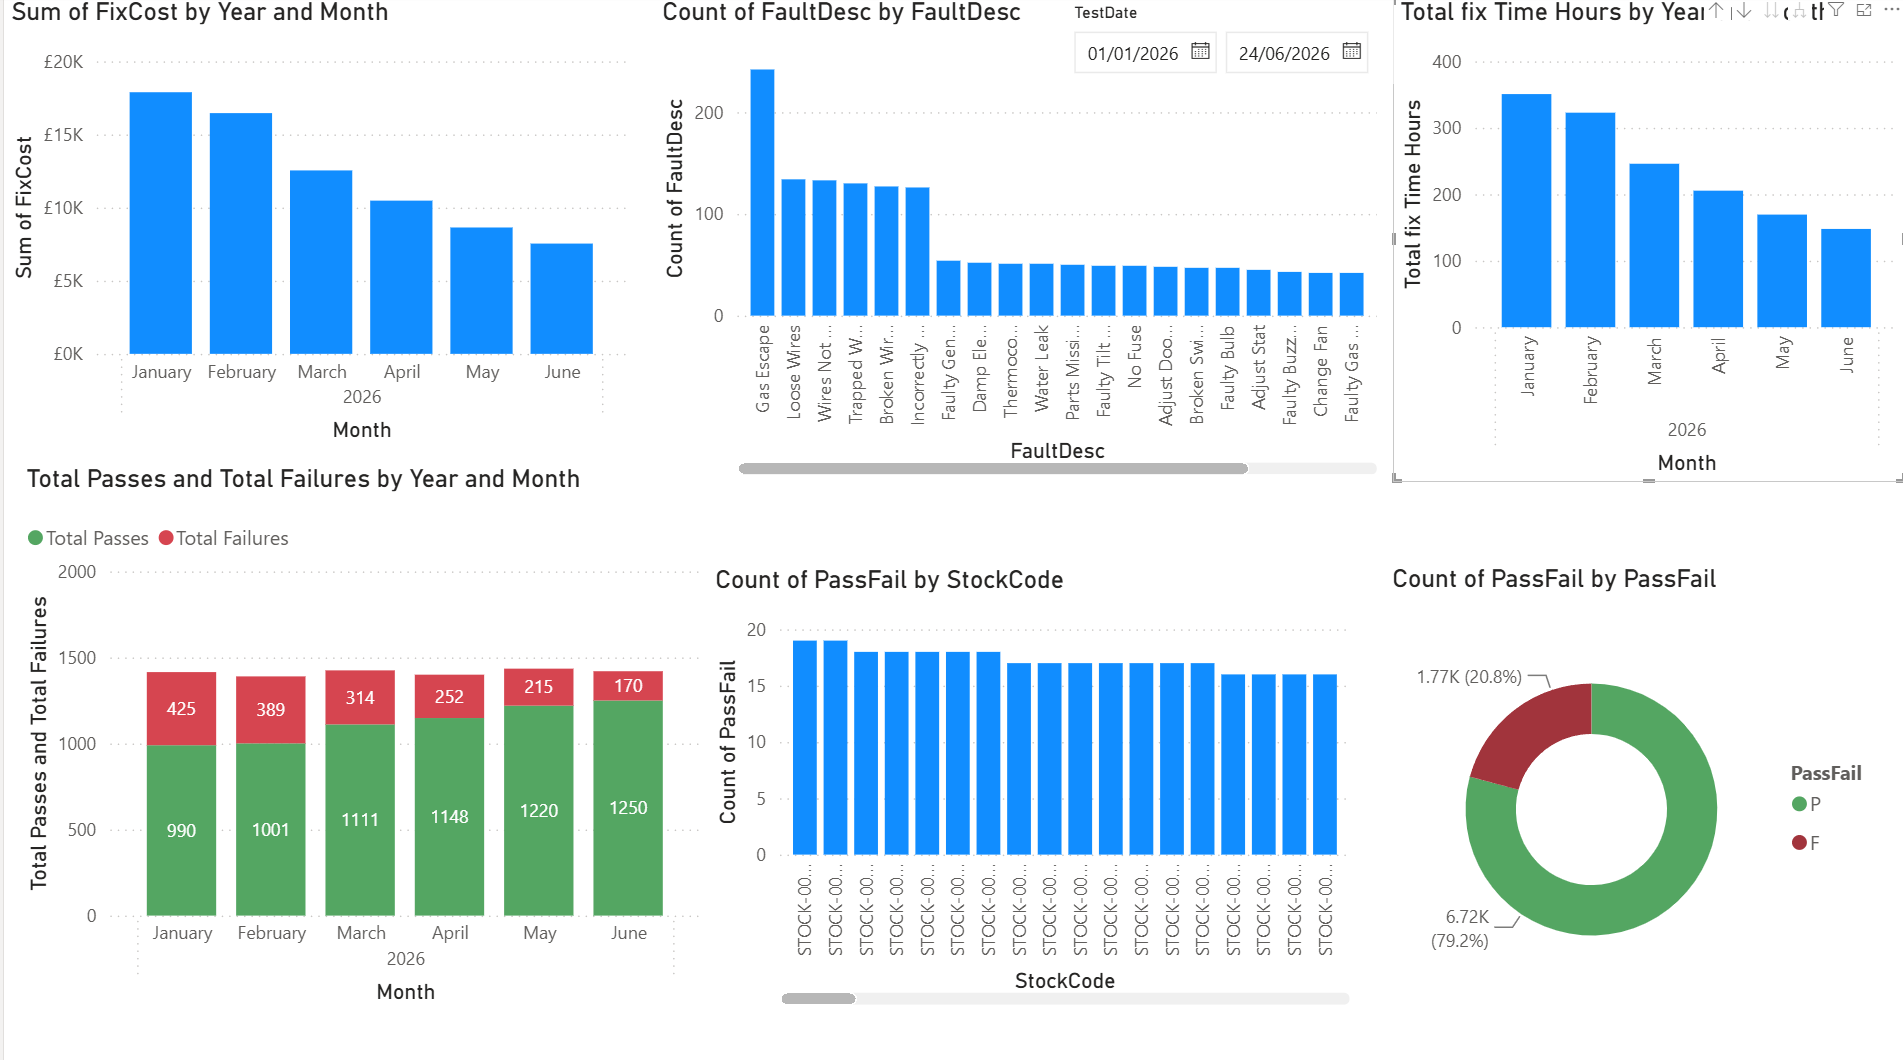

This screenshot's page, from the dashboard's own definition file:
{"tool":"powerbi","page":{"name":"Overall Summary","canvas":[1280,720],"ordinal":1},"visuals":[{"type":"columnChart","fields":{"Category":["datamanufacturing manufacture data clean final.AssDate.Variation.Date Hierarchy.Year","datamanufacturing manufacture data clean final.AssDate.Variation.Date Hierarchy.Month"],"Y":["datamanufacturing manufacture data clean final.Total Passes","datamanufacturing manufacture data clean final.Total Failures"]},"box":[9.8,314.8,464,369.1],"z":0},{"type":"clusteredColumnChart","fields":{"Y":["Sum(datamanufacturing manufacture data clean final.FixCost)"],"Category":["datamanufacturing manufacture data clean final.AssDate.Variation.Date Hierarchy.Year","datamanufacturing manufacture data clean final.AssDate.Variation.Date Hierarchy.Month"]},"box":[0,0,424.3,304.9],"z":1000},{"type":"clusteredColumnChart","fields":{"Category":["datamanufacturing manufacture data clean final.FaultDesc"],"Y":["CountNonNull(datamanufacturing manufacture data clean final.FaultDesc)"]},"box":[438.6,0,491.1,327.2],"z":2000},{"type":"clusteredColumnChart","fields":{"Y":["CountNonNull(datamanufacturing manufacture data clean final.PassFail)"],"Category":["datamanufacturing manufacture data clean final.StockCode"]},"box":[473.8,382.2,437.1,301.7],"z":3000},{"type":"clusteredColumnChart","fields":{"Category":["datamanufacturing manufacture data clean final.AssDate.Variation.Date Hierarchy.Year","datamanufacturing manufacture data clean final.AssDate.Variation.Date Hierarchy.Month"],"Y":["datamanufacturing manufacture data clean final.Total fix Time Hours"]},"box":[935,0,345,327],"z":4000},{"type":"donutChart","fields":{"Category":["datamanufacturing manufacture data clean final.PassFail"],"Y":["CountNonNull(datamanufacturing manufacture data clean final.PassFail)"]},"box":[929.5,382,345,302],"z":5000},{"type":"slicer","fields":{"Values":["datamanufacturing manufacture data clean final.TestDate"]},"box":[707.4,0,227.9,58.8],"z":6000}]}

Visuals, with their boxes in screenshot pixels (x1, y1, x2, y2), scaled from the page's 1280x720 canvas onto the 1903x1060 screenshot:
columnChart - datamanufacturing manufacture data clean final.AssDate.Variation.Date Hierarchy.Year x datamanufacturing manufacture data clean final.AssDate.Variation.Date Hierarchy.Month: (x1=15, y1=463, x2=704, y2=1007)
clusteredColumnChart - Sum(datamanufacturing manufacture data clean final.FixCost) x datamanufacturing manufacture data clean final.AssDate.Variation.Date Hierarchy.Year: (x1=0, y1=0, x2=631, y2=449)
clusteredColumnChart - datamanufacturing manufacture data clean final.FaultDesc x CountNonNull(datamanufacturing manufacture data clean final.FaultDesc): (x1=652, y1=0, x2=1382, y2=482)
clusteredColumnChart - CountNonNull(datamanufacturing manufacture data clean final.PassFail) x datamanufacturing manufacture data clean final.StockCode: (x1=704, y1=563, x2=1354, y2=1007)
clusteredColumnChart - datamanufacturing manufacture data clean final.AssDate.Variation.Date Hierarchy.Year x datamanufacturing manufacture data clean final.AssDate.Variation.Date Hierarchy.Month: (x1=1390, y1=0, x2=1902, y2=481)
donutChart - datamanufacturing manufacture data clean final.PassFail x CountNonNull(datamanufacturing manufacture data clean final.PassFail): (x1=1382, y1=562, x2=1895, y2=1007)
slicer - datamanufacturing manufacture data clean final.TestDate: (x1=1052, y1=0, x2=1391, y2=87)
